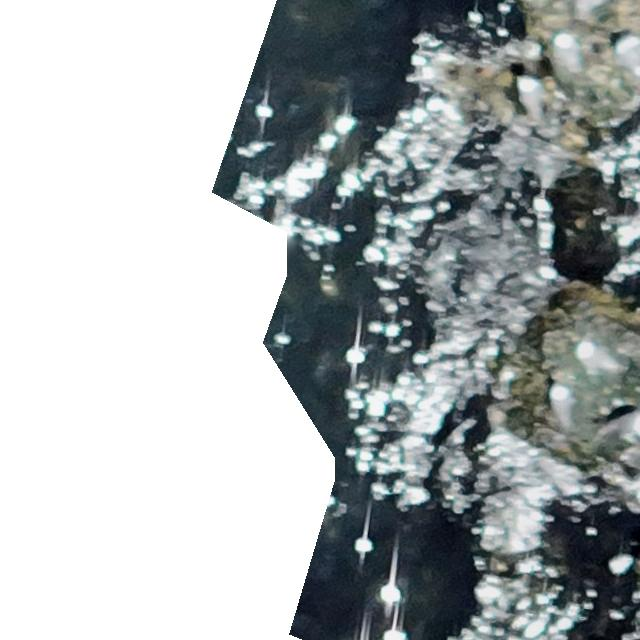umineko: (576, 341, 620, 375), (550, 384, 576, 428), (554, 33, 576, 80), (602, 411, 640, 438), (615, 34, 639, 74), (519, 74, 541, 114)
